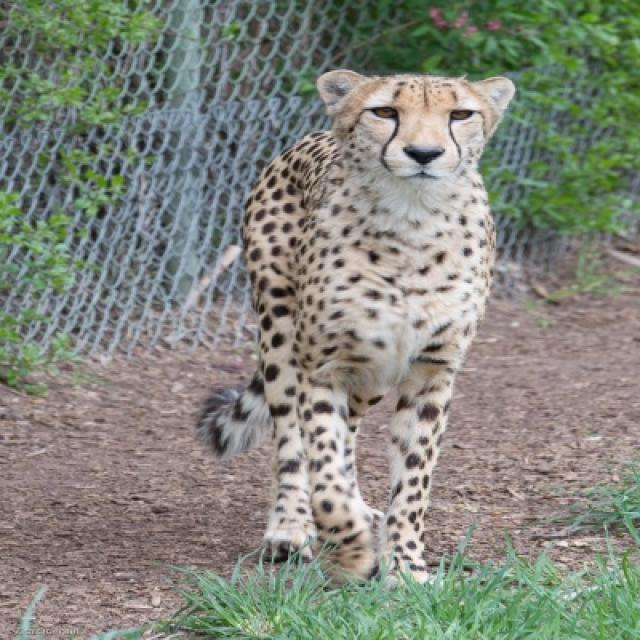Cheetah: (197, 69, 517, 590)
